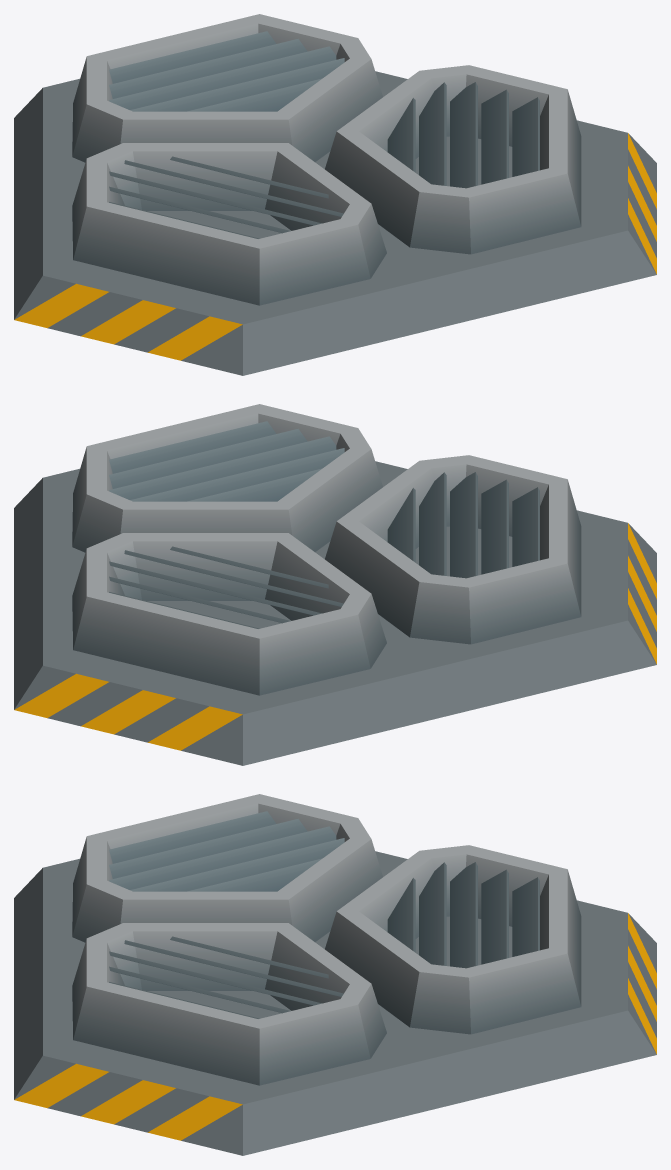
File: Ventilation_012.fbx
The picture shows the model from 3 angles, top to bottom: view 1: azimuth 30°, elevation 25°; view 2: azimuth 150°, elevation 25°; view 3: azimuth 270°, elevation 25°; orthographic projection.
Parts seen in each view (by area): view 1: Ventilation_012; view 2: Ventilation_012; view 3: Ventilation_012.
Part boxes in pixels (x1,y1,x2,y2): Ventilation_012: (14, 14, 656, 375); Ventilation_012: (14, 404, 656, 765); Ventilation_012: (14, 794, 656, 1155).
Size of the model in its own units: 140 by 121 by 18.23.
